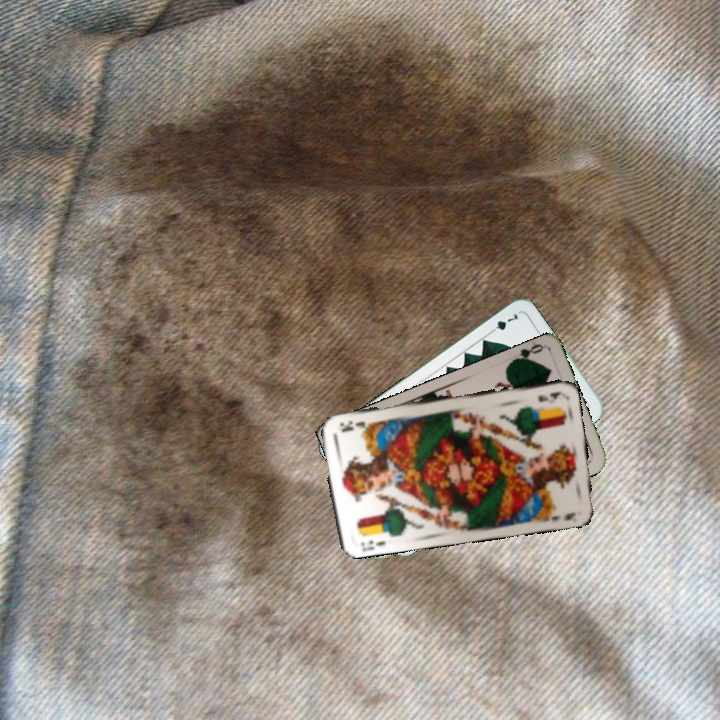EK: (357, 536, 388, 552), (534, 387, 562, 404)
G7: (485, 309, 521, 337)
GO: (507, 340, 545, 365)
